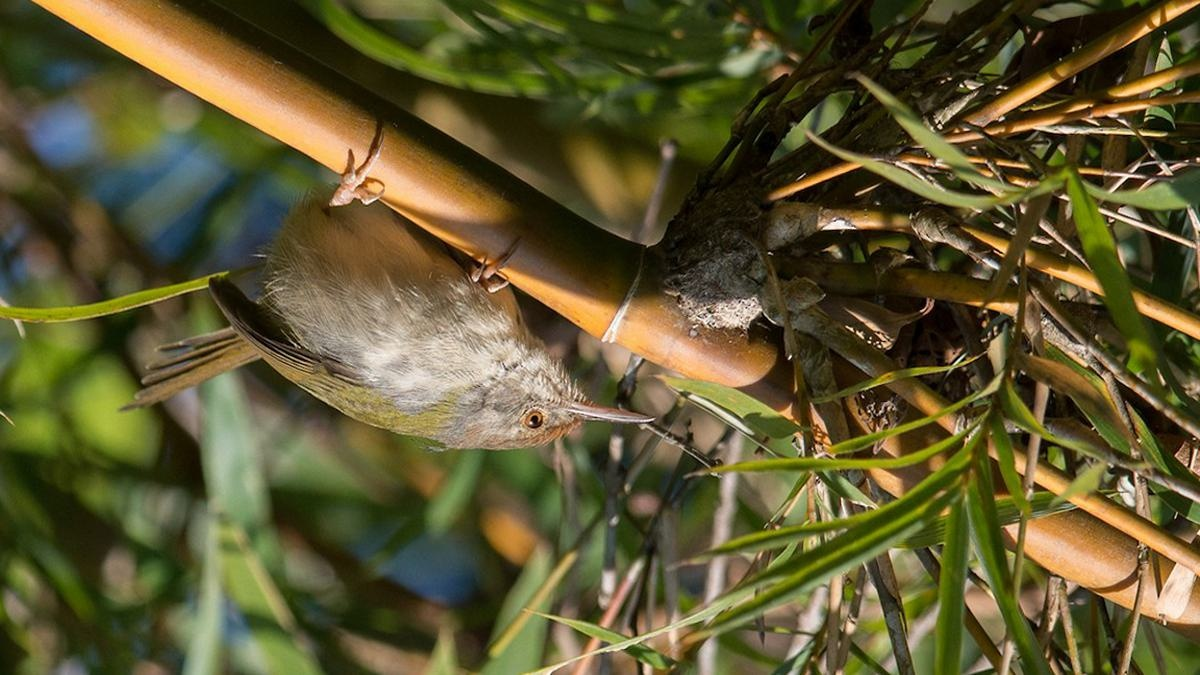tailorbird: (64, 194, 657, 469)
